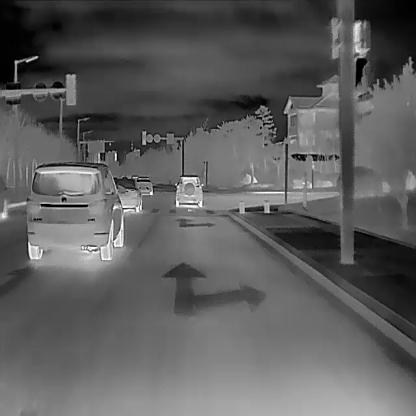car: (23, 159, 123, 260), (113, 176, 142, 212), (174, 174, 203, 207), (135, 175, 152, 195), (130, 175, 139, 180)
